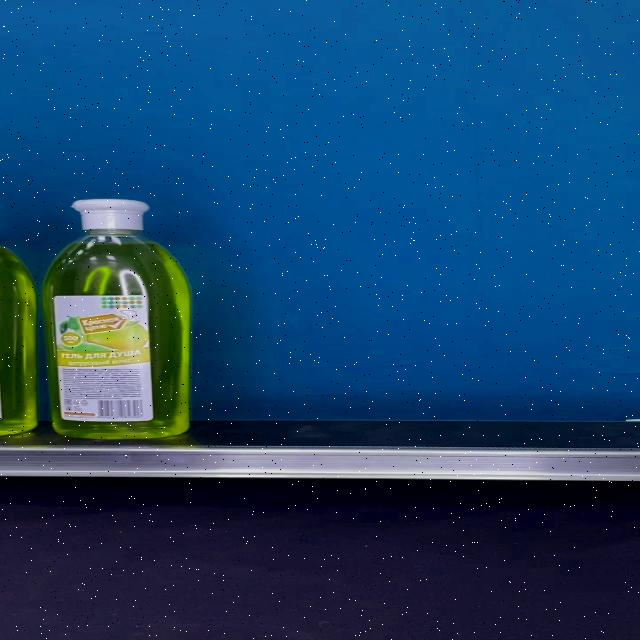Bottle: (43, 199, 191, 439)
Cap: (71, 199, 149, 231)
